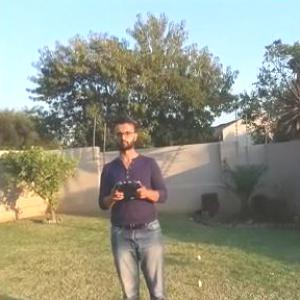follow: (92, 109, 177, 299)
